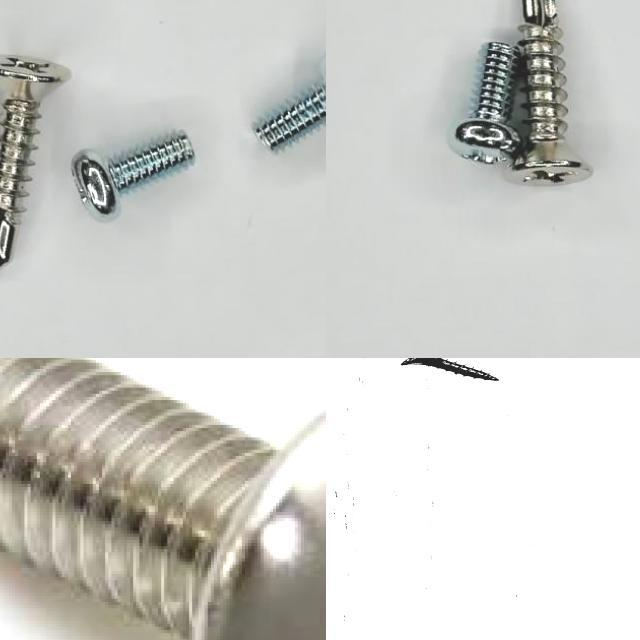Screw: (0, 358, 326, 640), (0, 56, 71, 268), (512, 0, 591, 184), (72, 132, 195, 220), (449, 41, 521, 166), (253, 57, 326, 151), (402, 358, 501, 381)
